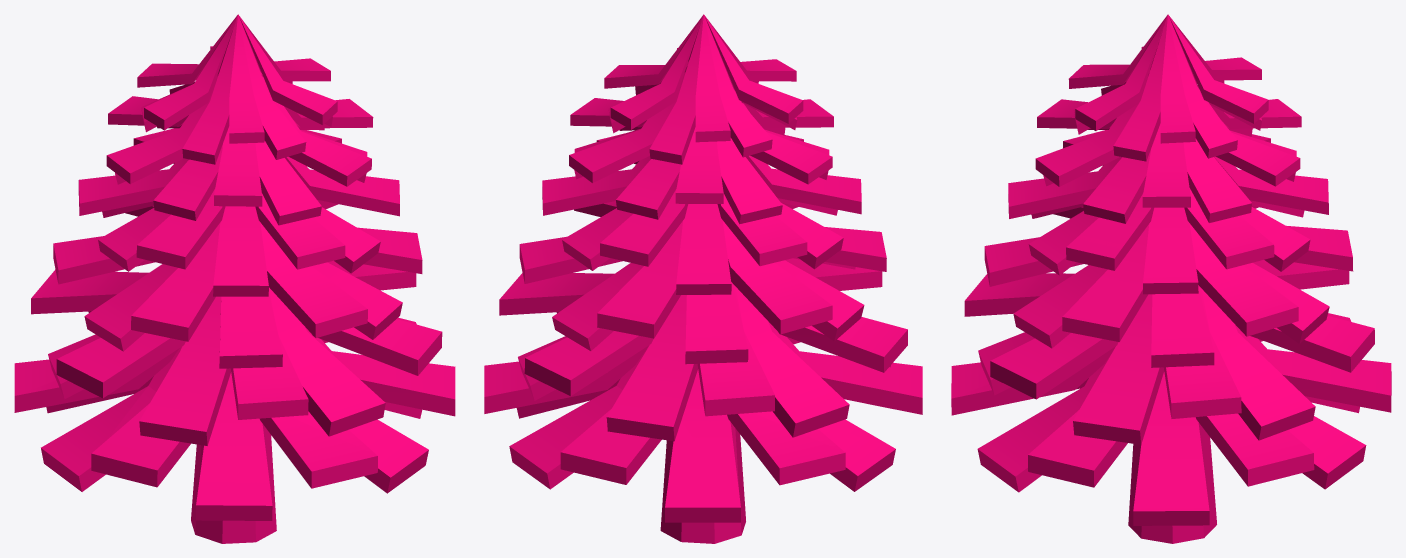
Rendered from SM_SS_Spruce.fbx.
The picture shows the model from 3 angles, left to right: view 1: azimuth 30°, elevation 25°; view 2: azimuth 150°, elevation 25°; view 3: azimuth 270°, elevation 25°; orthographic projection.
Parts seen in each view (by area): view 1: SM_SS_Spruce; view 2: SM_SS_Spruce; view 3: SM_SS_Spruce.
Boxes of the visible parts, box(x1,y1,x2,y2) form: SM_SS_Spruce: box(14, 14, 455, 543); SM_SS_Spruce: box(484, 14, 922, 543); SM_SS_Spruce: box(951, 14, 1391, 543).
Bounding box in the file's own units: 149 × 157 × 201.
